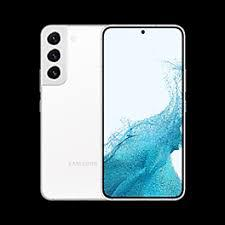Smartphone: (98, 28, 184, 201), (45, 28, 101, 204)
